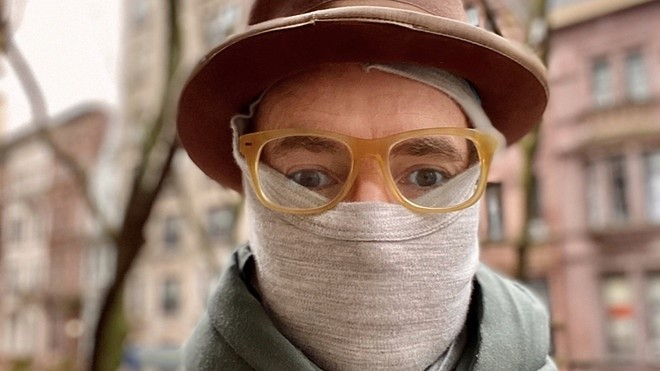face_with_mask: (236, 24, 489, 363)
